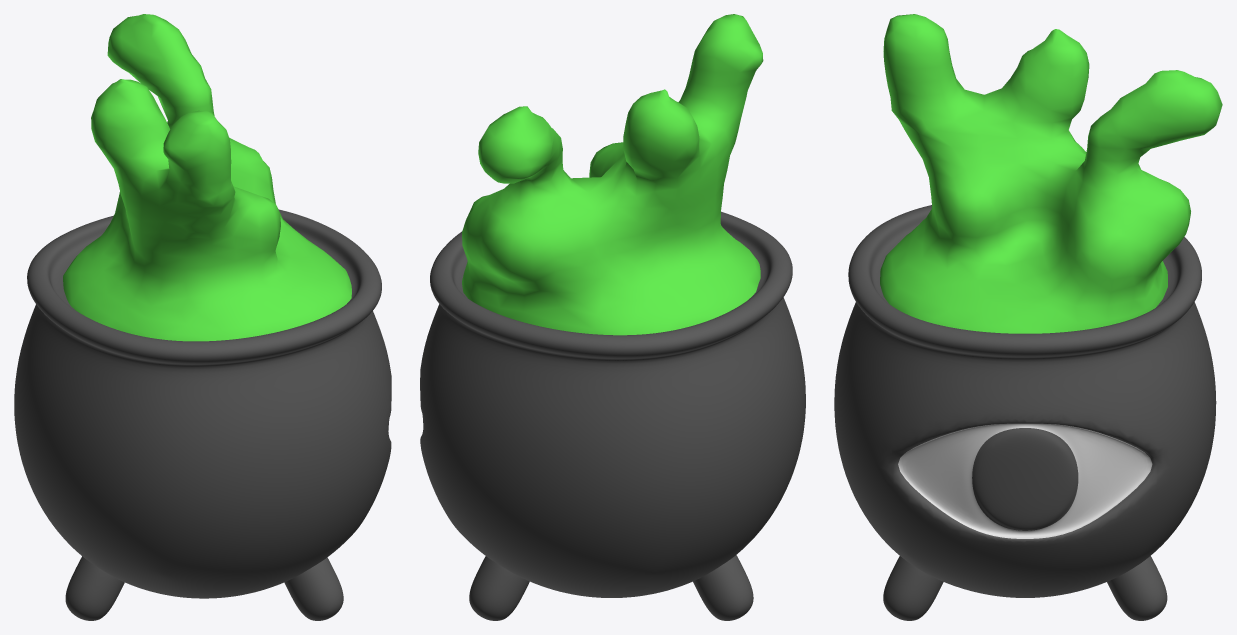
File: couldron.glb
3 views of the same model, side by side, from view 1: azimuth 30°, elevation 25°; view 2: azimuth 150°, elevation 25°; view 3: azimuth 270°, elevation 25° (orthographic). The views are drawn at different scales.
Visible parts, largest first — view 1: Cube; view 2: Cube; view 3: Cube.
Boxes of the visible parts, <box> form: Cube: <box>14,14,391,620</box>; Cube: <box>420,14,805,620</box>; Cube: <box>834,14,1222,620</box>.
Size of the model in its own units: 2.34 by 3.77 by 2.44.
